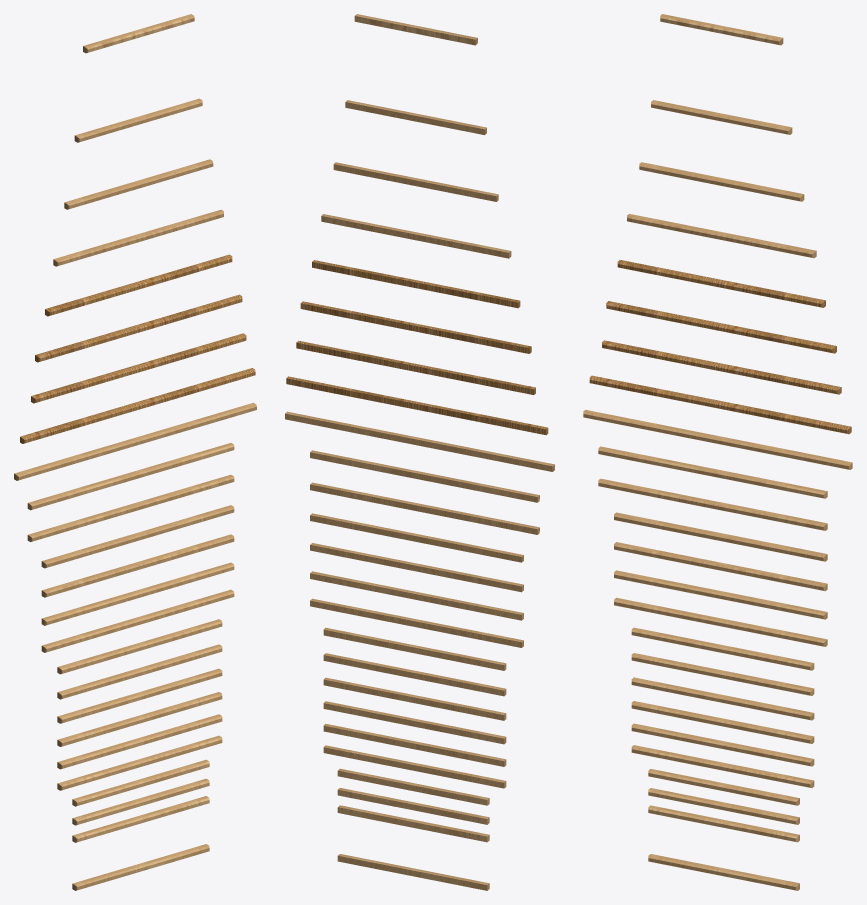
The picture shows the model from 3 angles, left to right: view 1: azimuth 30°, elevation 25°; view 2: azimuth 150°, elevation 25°; view 3: azimuth 330°, elevation 25°; orthographic projection.
Parts seen in each view (by area): view 1: 对象026, 对象027, 对象028, 对象029, 对象025, 对象024, 对象021, 对象022, 对象020, 对象023, 对象030, 对象031 (+13 smaller); view 2: 对象026, 对象027, 对象028, 对象029, 对象024, 对象025, 对象021, 对象022, 对象023, 对象020, 对象030, 对象031 (+13 smaller); view 3: 对象026, 对象027, 对象028, 对象029, 对象024, 对象025, 对象022, 对象020, 对象021, 对象023, 对象030, 对象031 (+13 smaller).
Part boxes in pixels (left/top/right/bottom): 对象026: left=14, top=402, right=256, bottom=480; 对象027: left=20, top=368, right=255, bottom=443; 对象028: left=31, top=333, right=246, bottom=403; 对象029: left=35, top=294, right=242, bottom=362; 对象025: left=27, top=443, right=234, bottom=510; 对象024: left=27, top=474, right=234, bottom=541; 对象021: left=41, top=562, right=234, bottom=625; 对象022: left=41, top=534, right=234, bottom=597; 对象020: left=41, top=589, right=234, bottom=652; 对象023: left=41, top=505, right=234, bottom=568; 对象030: left=45, top=254, right=232, bottom=316; 对象031: left=53, top=209, right=223, bottom=266; 对象026: left=285, top=411, right=554, bottom=471; 对象027: left=286, top=376, right=548, bottom=435; 对象028: left=296, top=340, right=535, bottom=394; 对象029: left=300, top=301, right=531, bottom=353; 对象024: left=310, top=482, right=539, bottom=534; 对象025: left=310, top=450, right=539, bottom=502; 对象021: left=310, top=571, right=523, bottom=620; 对象022: left=310, top=543, right=523, bottom=592; 对象023: left=310, top=513, right=523, bottom=562; 对象020: left=310, top=598, right=523, bottom=647; 对象030: left=312, top=260, right=520, bottom=308; 对象031: left=321, top=214, right=511, bottom=258; 对象026: left=583, top=410, right=852, bottom=469; 对象027: left=589, top=375, right=851, bottom=434; 对象028: left=602, top=340, right=841, bottom=394; 对象029: left=606, top=301, right=836, bottom=353; 对象024: left=598, top=478, right=827, bottom=530; 对象025: left=598, top=446, right=827, bottom=498; 对象022: left=614, top=542, right=827, bottom=591; 对象020: left=614, top=597, right=827, bottom=646; 对象021: left=614, top=570, right=827, bottom=619; 对象023: left=614, top=512, right=827, bottom=561; 对象030: left=617, top=260, right=825, bottom=307; 对象031: left=627, top=214, right=816, bottom=258.
Bounding box in the file's own units: 105 × 332 × 11.67.
25 materials, 25 textured.
